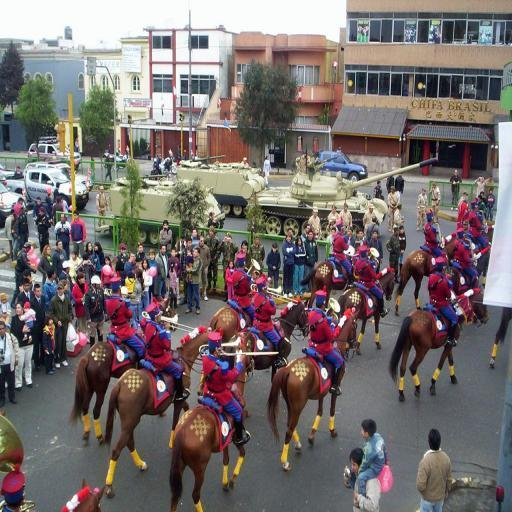horse: (104, 327, 210, 498), (70, 296, 180, 444), (168, 330, 256, 512), (265, 308, 362, 472), (388, 285, 492, 405), (222, 294, 309, 382), (337, 266, 396, 352), (396, 234, 460, 309), (205, 282, 271, 340), (300, 252, 352, 309), (488, 298, 512, 370), (60, 476, 104, 512), (472, 242, 492, 288), (481, 222, 495, 245)
